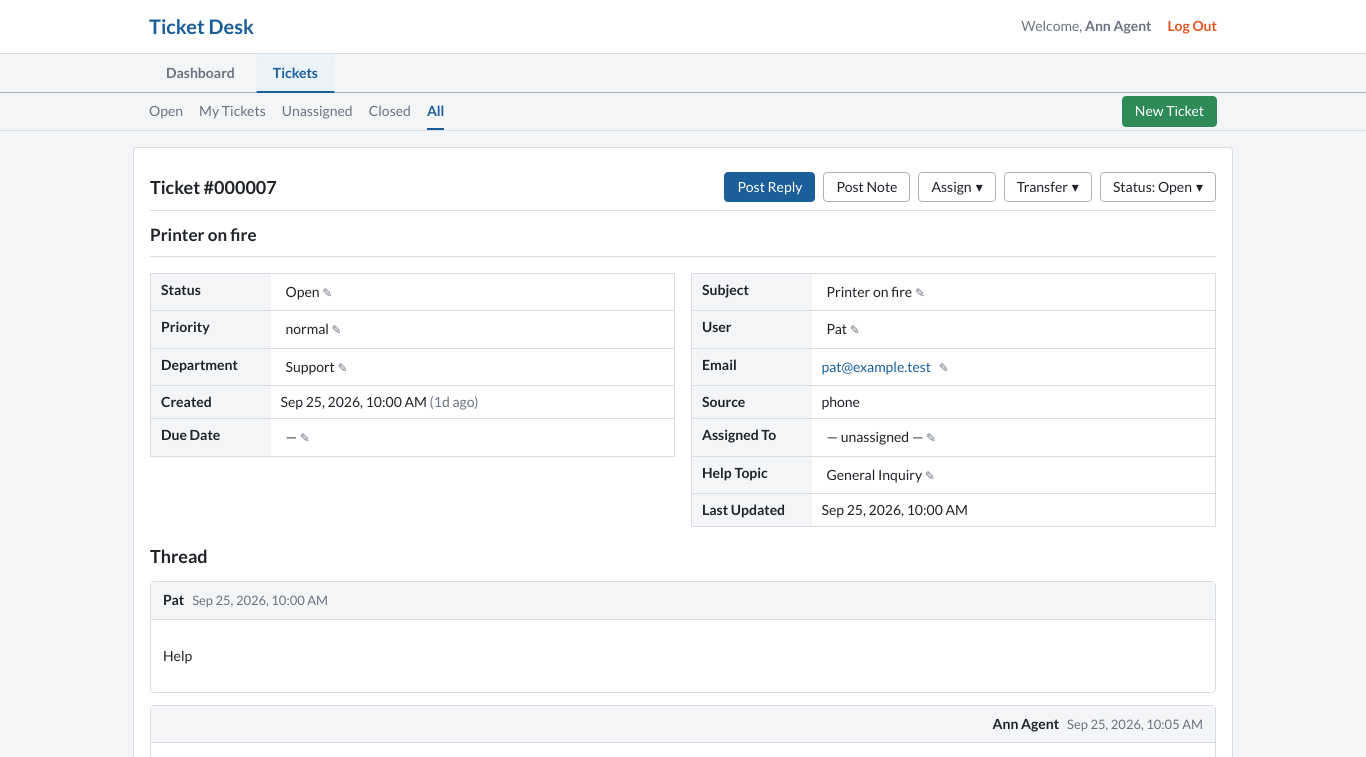
Post Note selects the Internal Note tab
What coordinates should you click on to do the following:
click the button "Post Note"
I would click on:
 (867, 187)
Its box is [823,172,910,202].
(page scrolled)
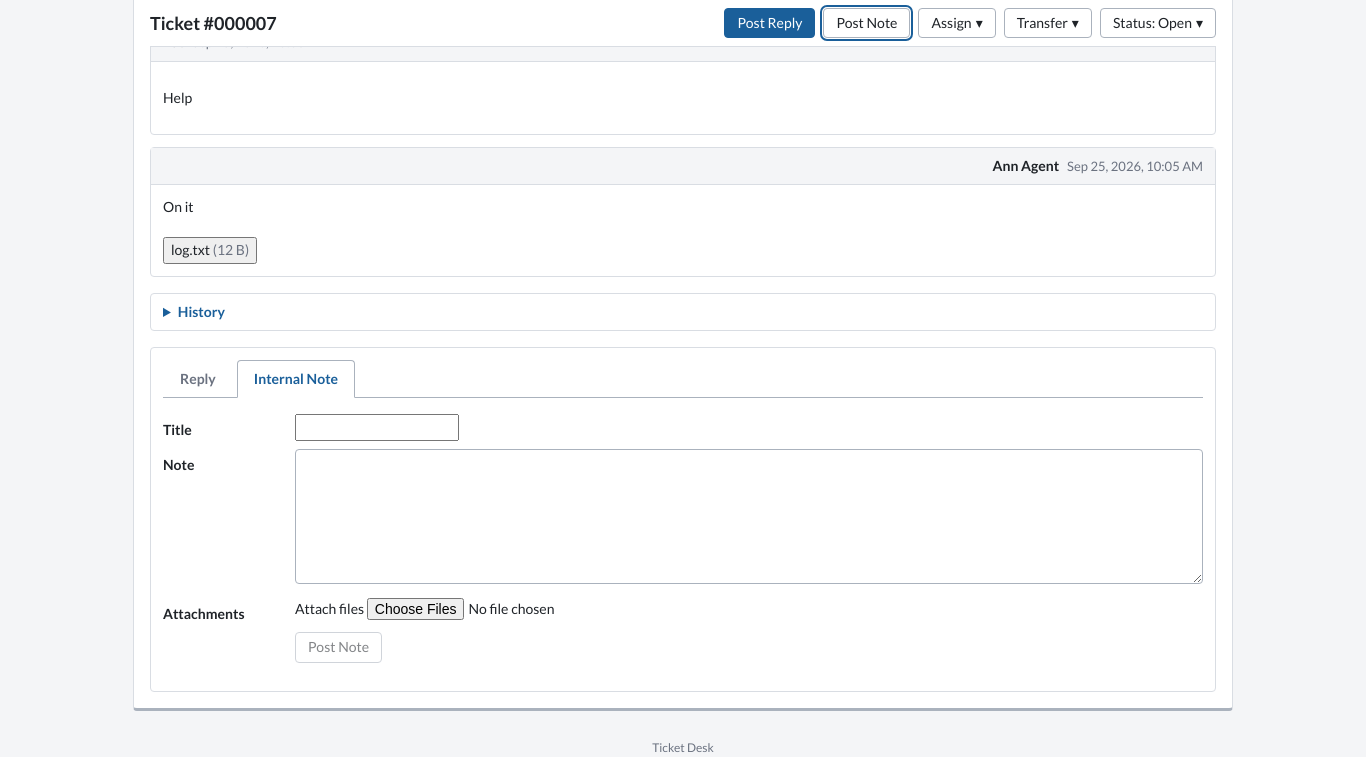
Result: the text box labelled "Note" is shown at [295,449,1203,584]
